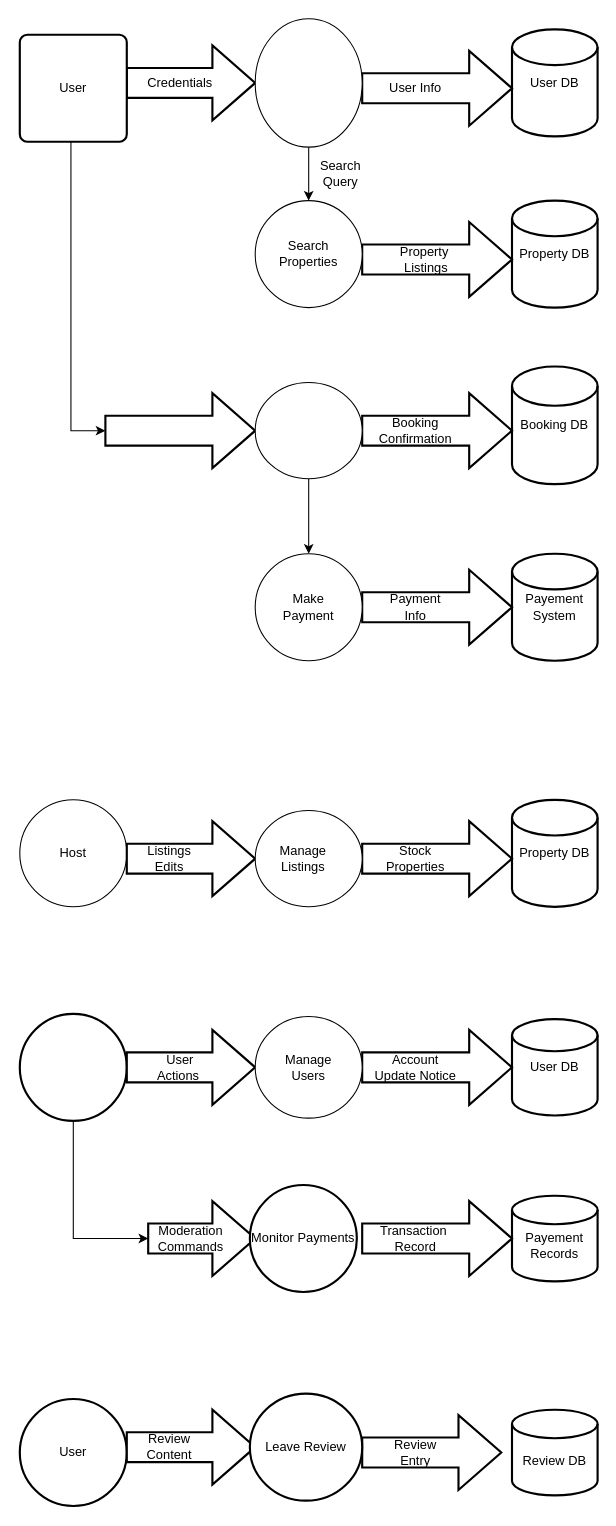
This 616x1526 diagram has some shape labels left out. The shapes that lost their labels are listed below. From the top down, each one's centre as x and y in pixels, then its label:
At (x=308, y=82): "Register/Login".
At (x=180, y=430): "Booking Details".
At (x=308, y=430): "Book Property".
At (x=72, y=1066): "Admin".
